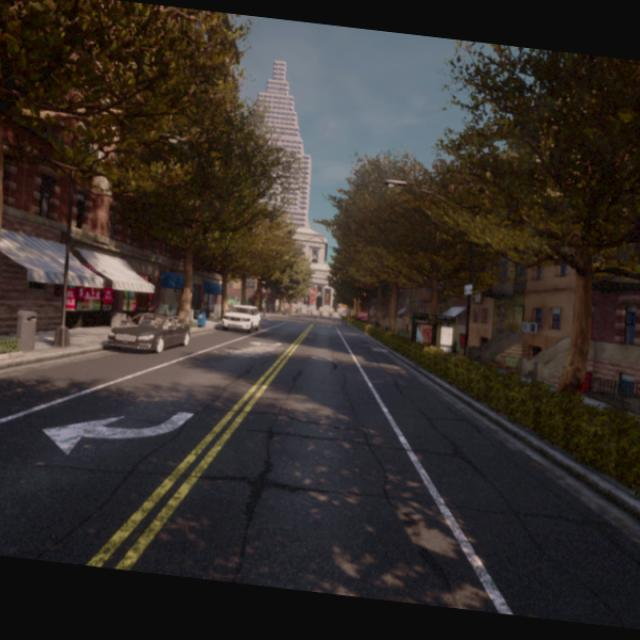stop sign: (354, 306, 376, 327)
